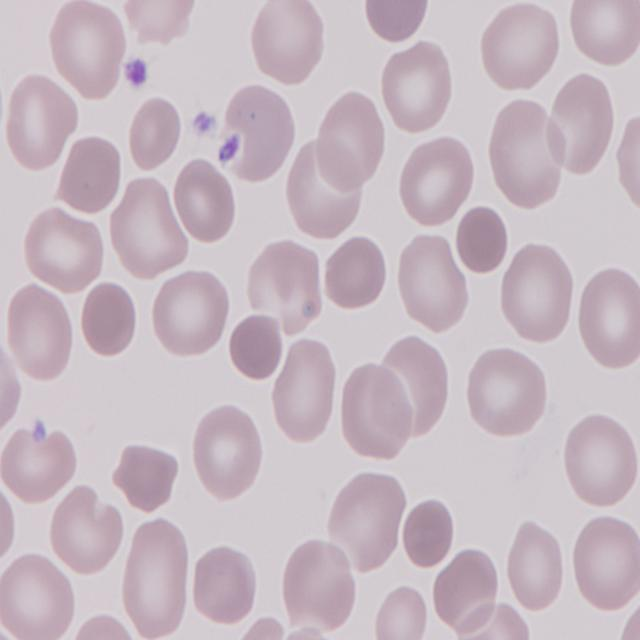RBC: (484, 93, 568, 212), (136, 162, 230, 262), (108, 175, 191, 284), (119, 518, 192, 636), (288, 136, 370, 240), (478, 0, 566, 95), (46, 1, 128, 102), (497, 240, 575, 345), (328, 468, 406, 571), (191, 402, 267, 506), (564, 411, 640, 514), (463, 347, 549, 438), (377, 36, 455, 136), (338, 358, 414, 460), (3, 72, 80, 172), (148, 268, 232, 359), (272, 334, 340, 446), (22, 209, 108, 297), (394, 134, 472, 230), (394, 234, 469, 333), (316, 88, 389, 188), (3, 281, 75, 382), (548, 72, 617, 175), (282, 534, 358, 627), (571, 515, 640, 615), (48, 484, 122, 577), (0, 421, 80, 507), (248, 0, 326, 88), (0, 552, 76, 640), (576, 267, 640, 369), (173, 158, 240, 248), (503, 522, 567, 616), (191, 542, 262, 626), (55, 132, 123, 218), (434, 546, 502, 632), (324, 234, 391, 312), (568, 1, 640, 68), (116, 445, 177, 519), (126, 98, 183, 174), (120, 0, 201, 48), (370, 580, 430, 640), (361, 0, 438, 45), (1, 338, 26, 446), (458, 606, 534, 640), (70, 614, 136, 640)
Spherocyte: (80, 281, 140, 357), (402, 497, 456, 573), (229, 311, 284, 385), (456, 207, 511, 274)
